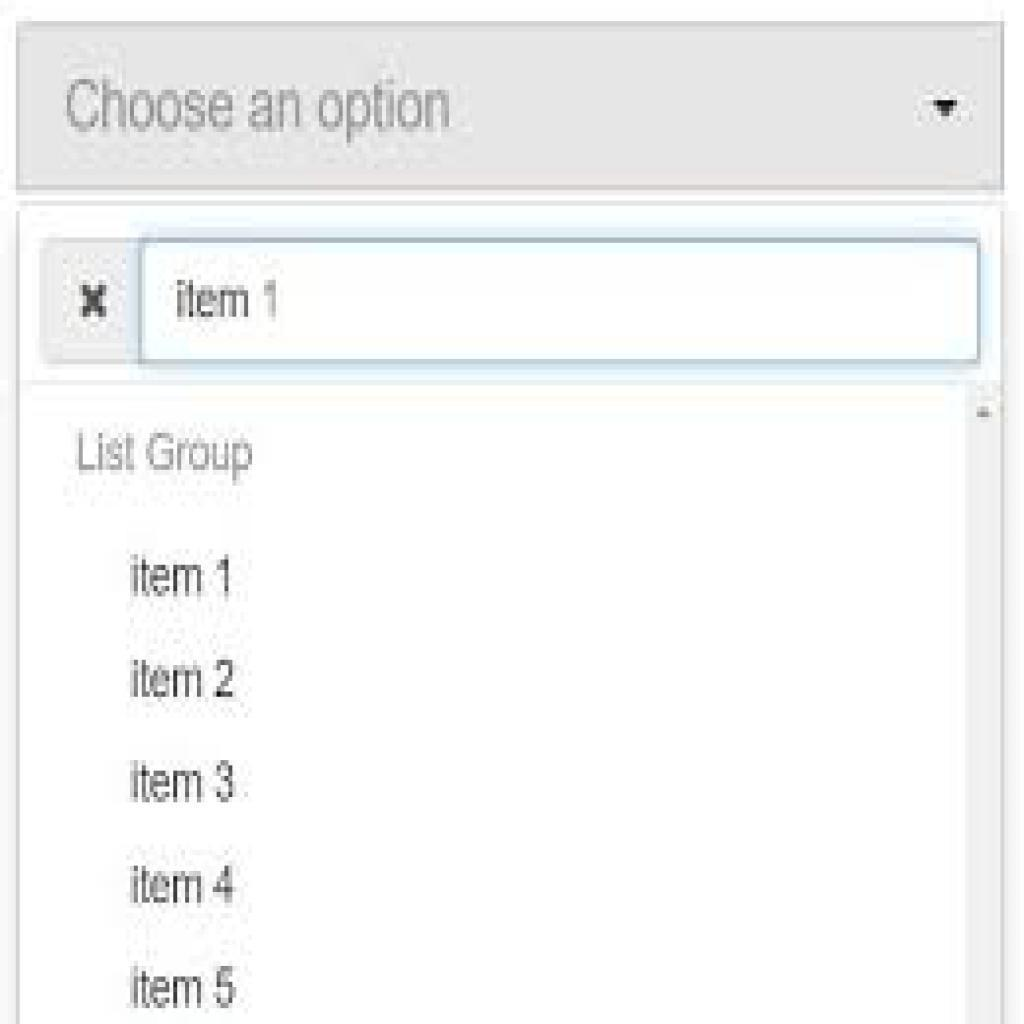dropdown: (21, 27, 1001, 191)
icon: (71, 278, 116, 330)
input: (141, 241, 982, 362)
